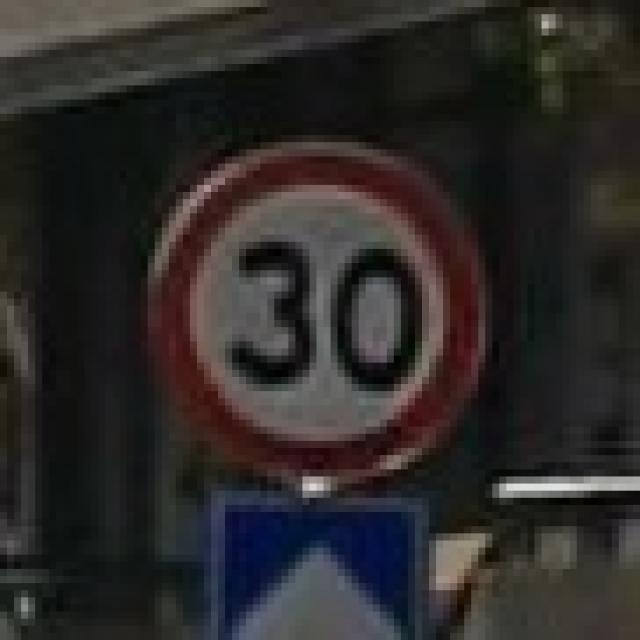Speed Limit -30-: (224, 236, 428, 396)
